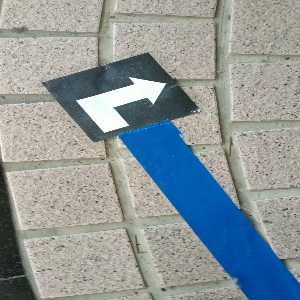right: (42, 54, 197, 142)
